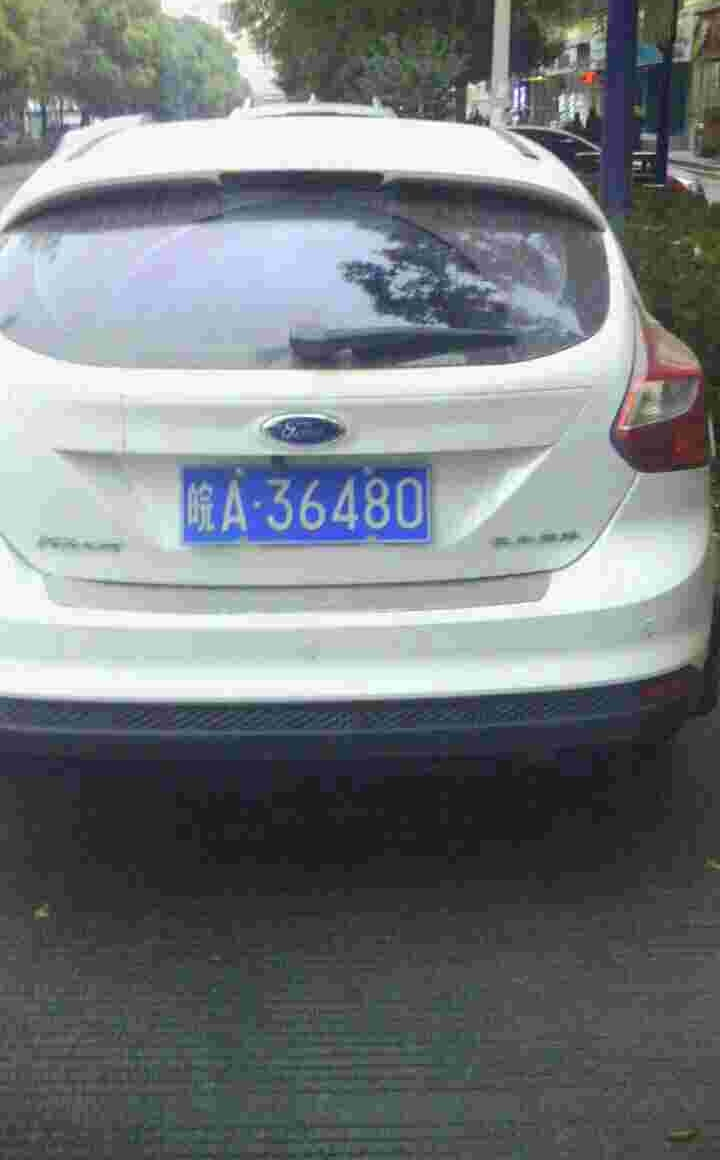plate: (183, 460, 436, 548)
